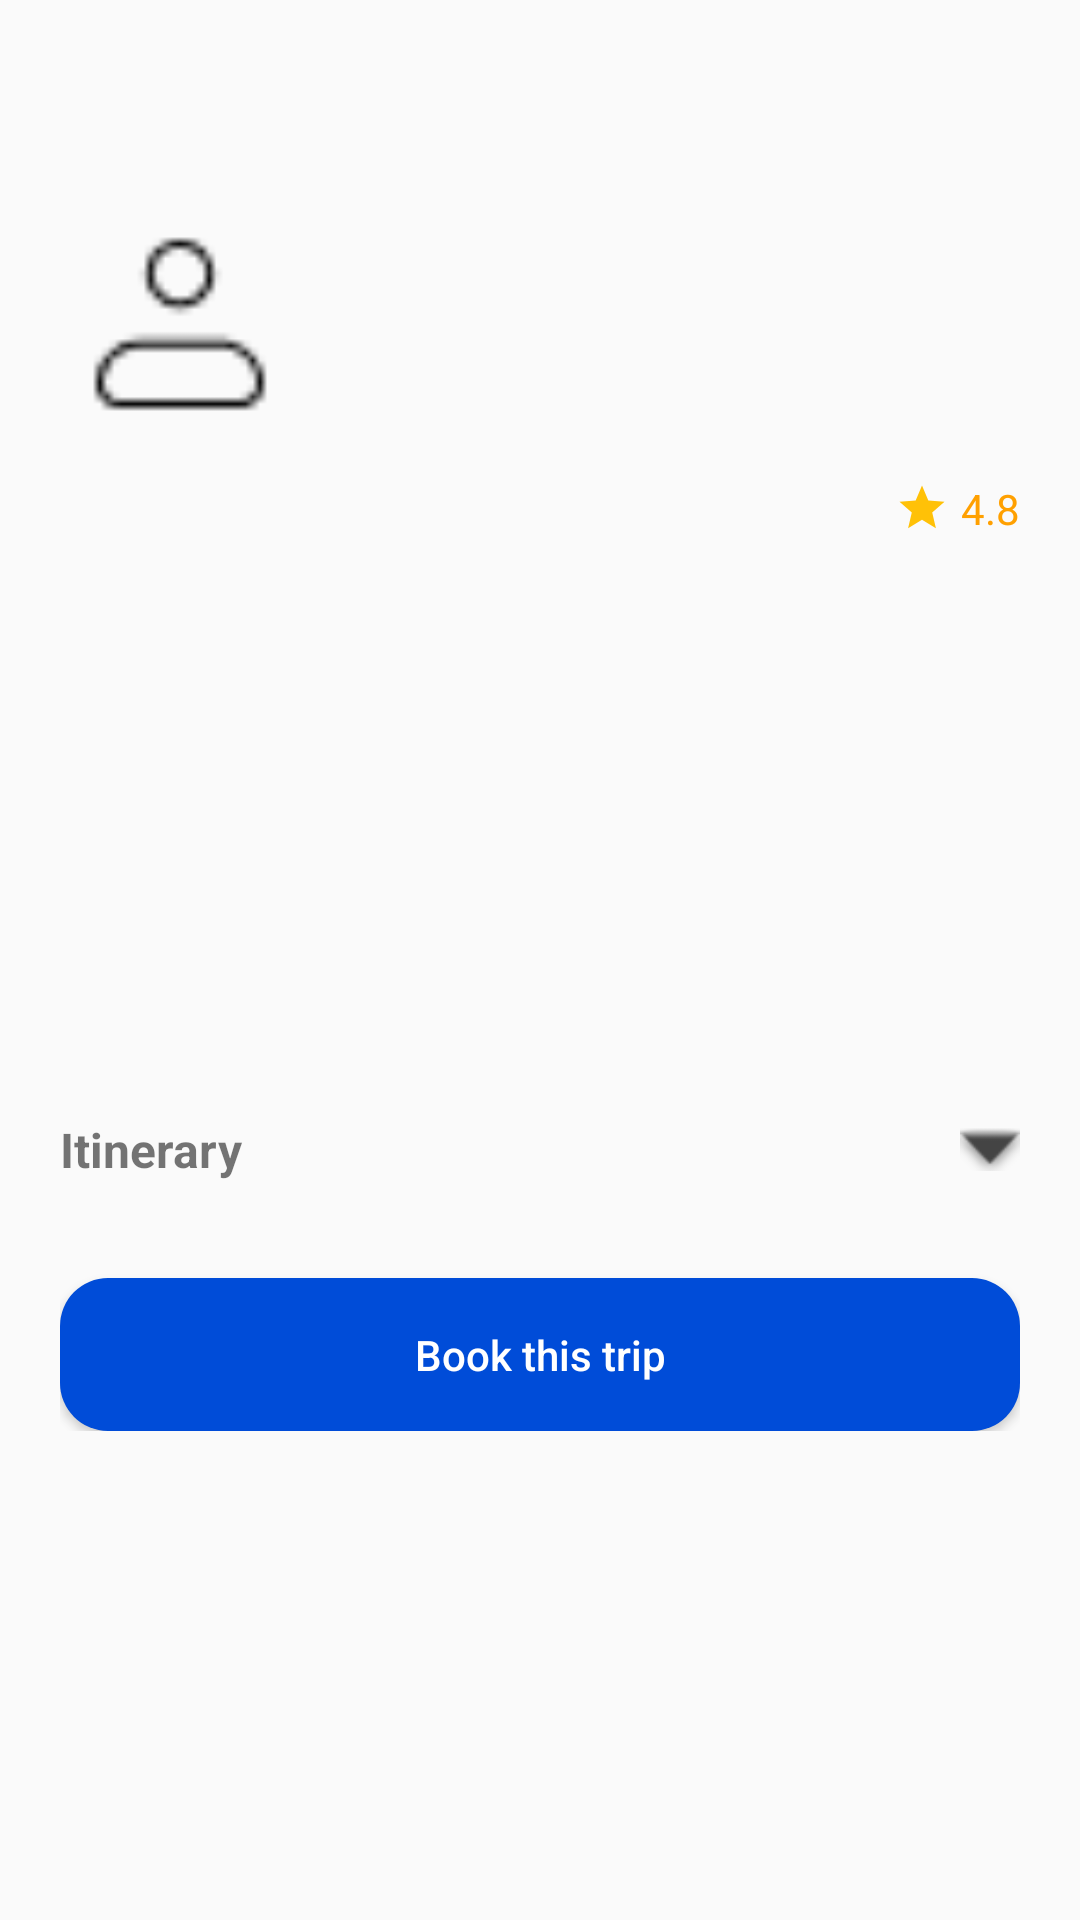

Icon click points for this 1080 × 1920 phone screenshot, format (x=x, y=y):
arrow down float: (x=990, y=1149)
profile: (x=180, y=324)
star: (x=922, y=507)
